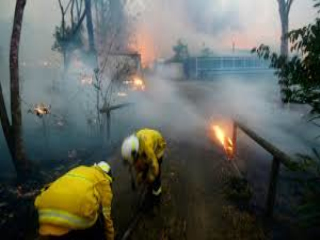fire: (208, 118, 239, 155), (120, 74, 152, 97)
smoke: (178, 68, 312, 128)
